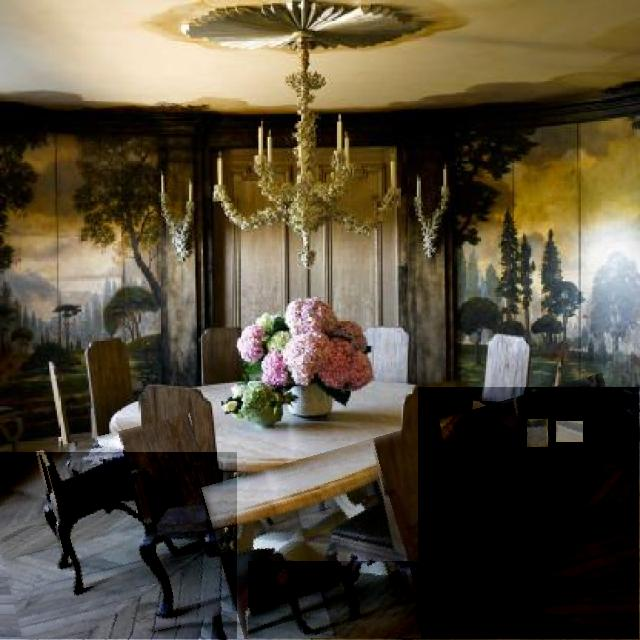floor: (418, 387, 639, 640), (0, 452, 237, 640), (249, 562, 421, 639), (74, 435, 94, 470), (527, 419, 548, 447), (556, 422, 583, 442)
